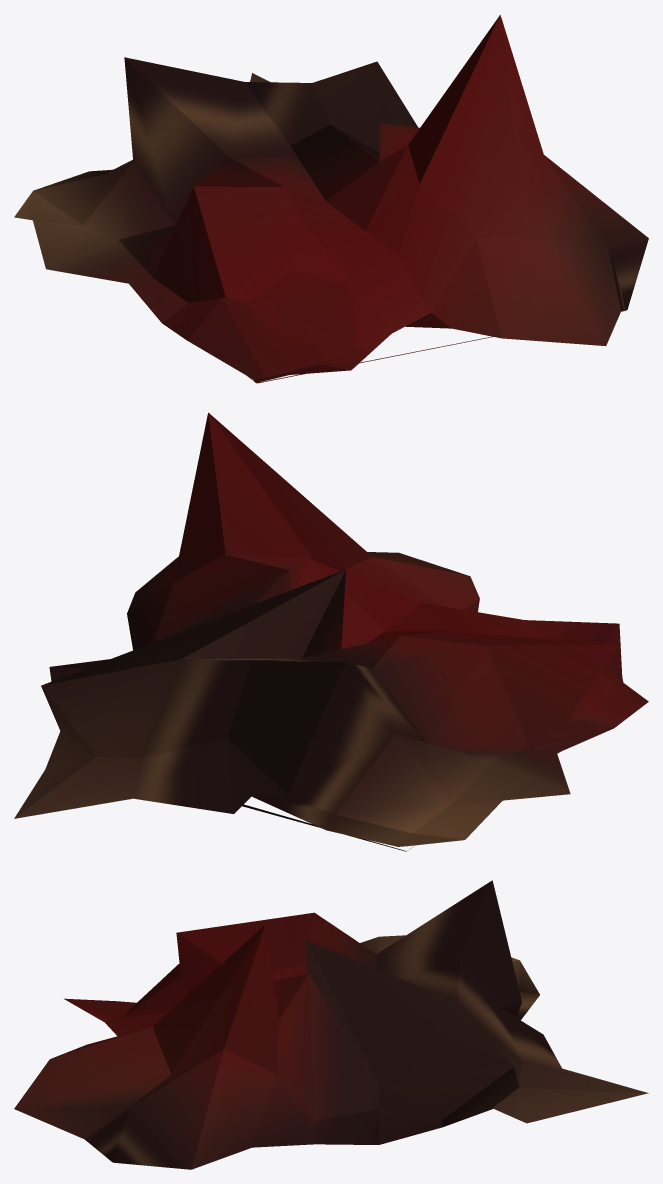
File: Chobi.obj
3 renders of one model, top to bottom at view 1: azimuth 30°, elevation 25°; view 2: azimuth 150°, elevation 25°; view 3: azimuth 270°, elevation 25°, orthographic. The views are drawn at different scales.
Visible parts, largest first — view 1: Cube; view 2: Cube; view 3: Cube.
Boxes of the visible parts, x1=… form: Cube: x1=14, y1=15, x2=648, y2=383; Cube: x1=14, y1=412, x2=648, y2=851; Cube: x1=14, y1=880, x2=648, y2=1169.
Bounding box in the file's own units: 9.01 × 4.21 × 11.01.
Materials: 1 (1 with a texture image).
